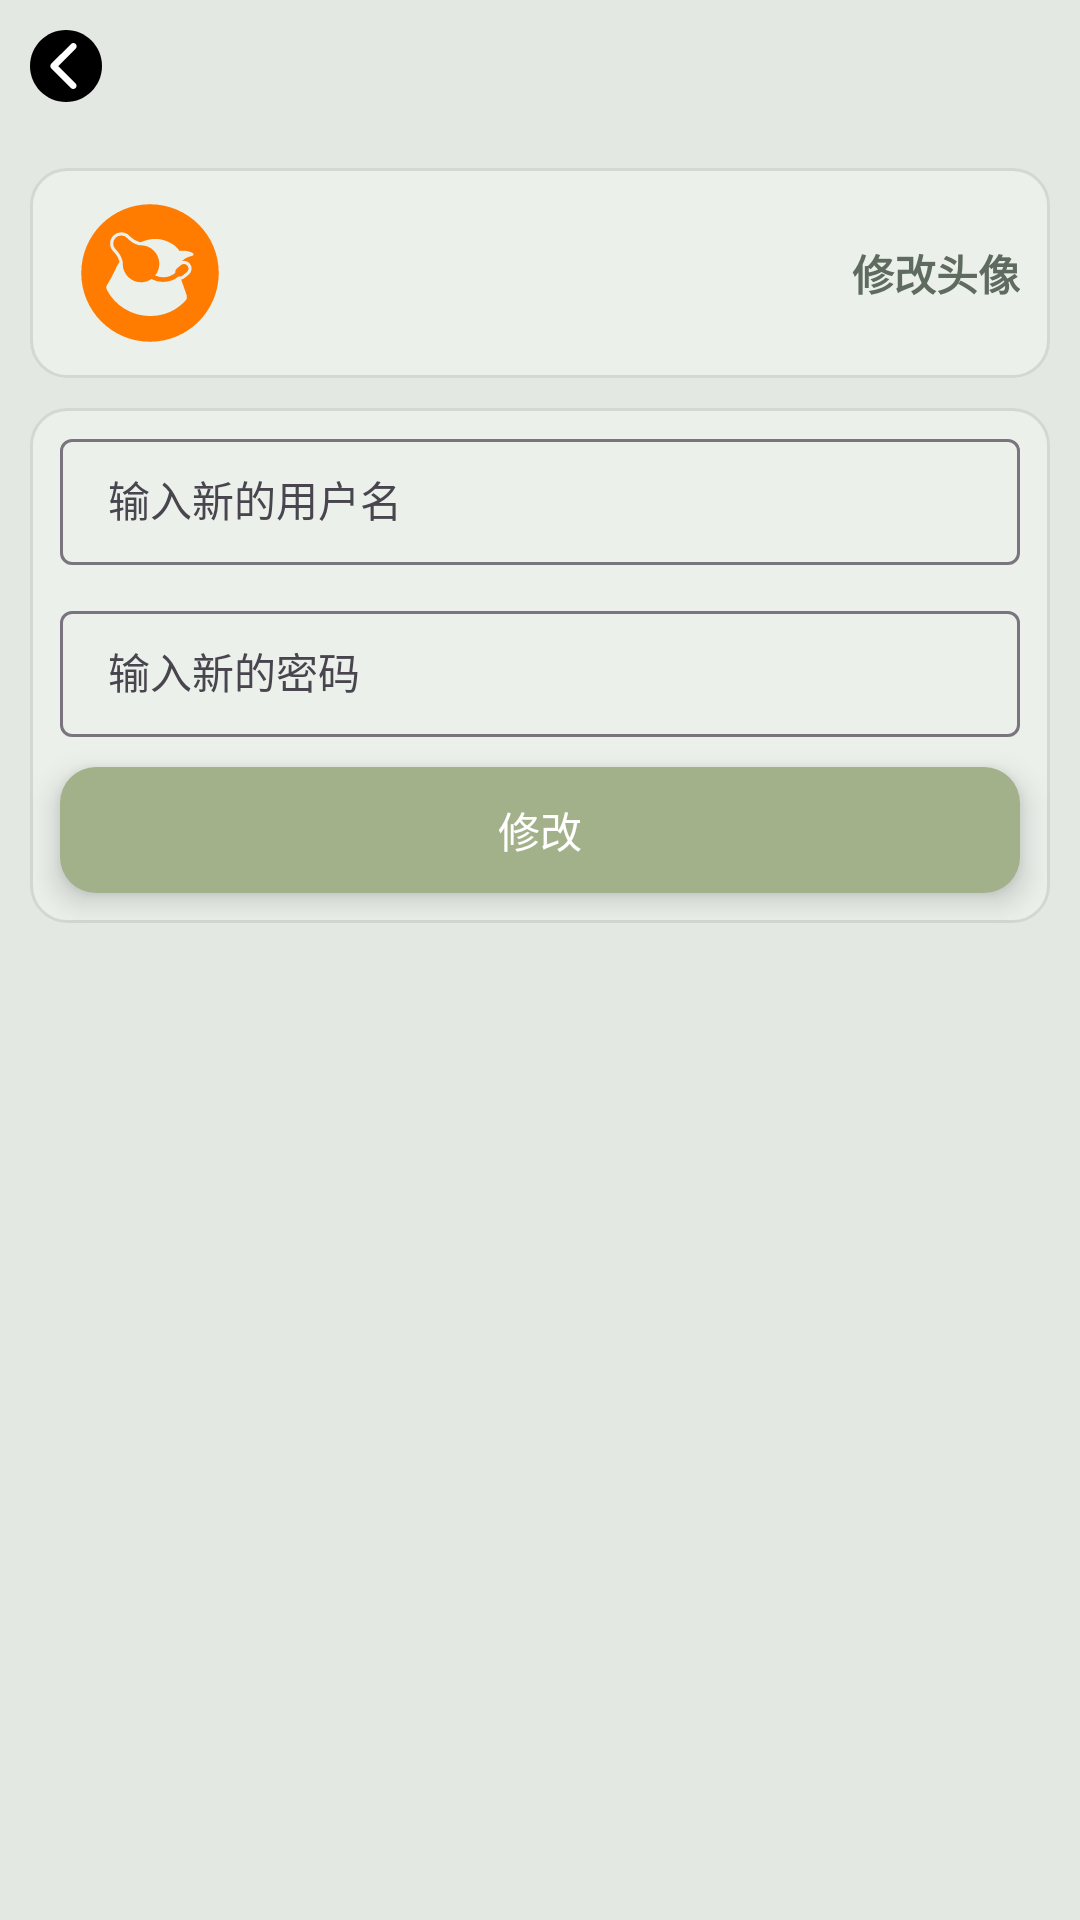

Screen size 1080x1920. Icon name, then its center in pixels as [x,y]:
back: [66,66]
